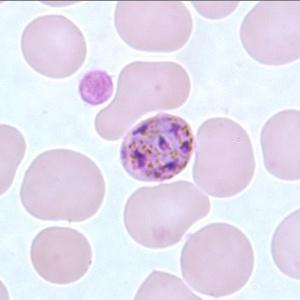Infected: (118, 111, 194, 182)
Uninfected: (93, 60, 192, 140), (18, 149, 104, 220), (181, 220, 252, 300), (125, 183, 213, 246), (194, 116, 256, 198), (18, 12, 86, 79), (113, 0, 195, 51), (239, 0, 300, 66), (31, 226, 92, 287), (258, 109, 300, 183)
